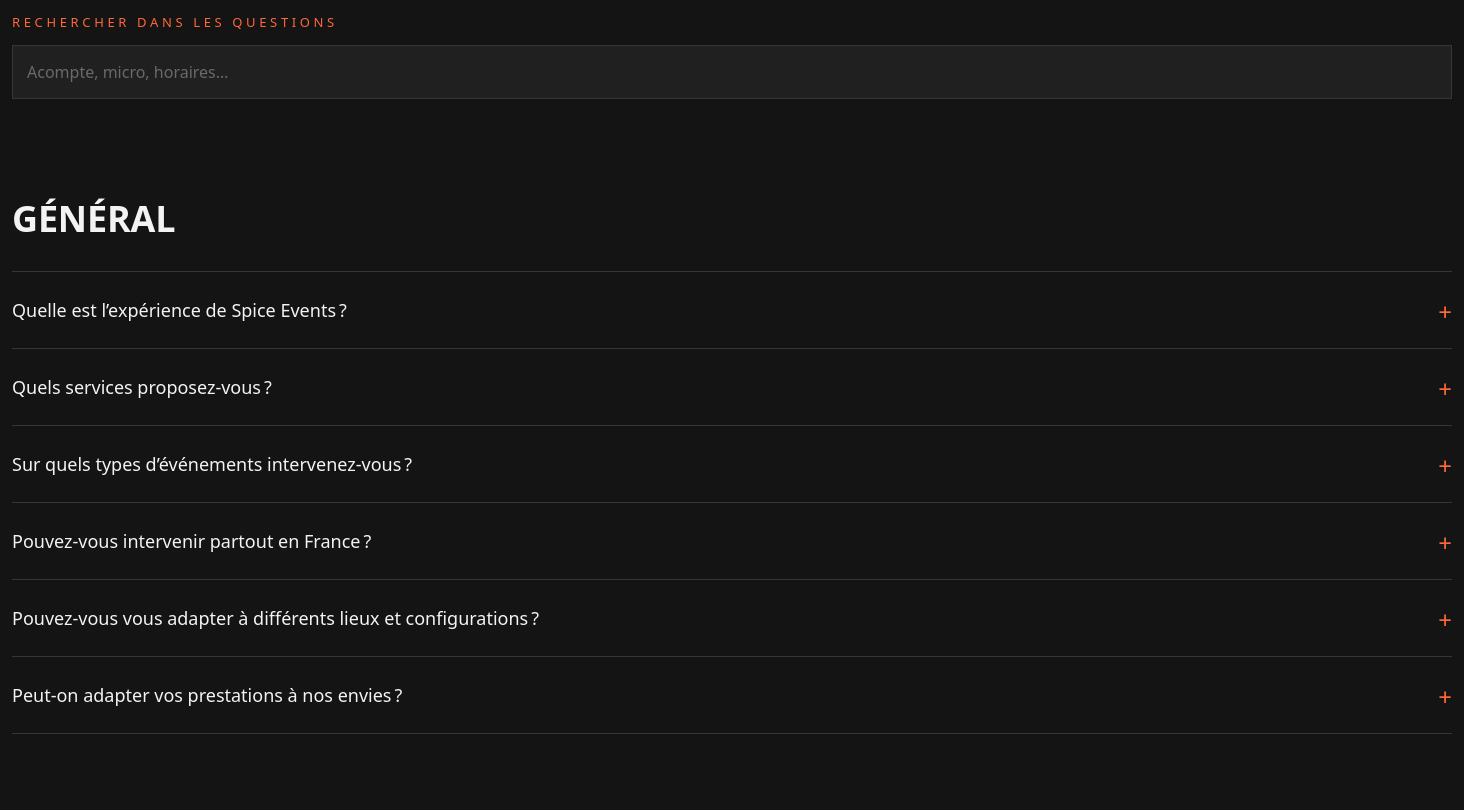
Test case: FaqFiltrable › filtre les questions, les déplie et annonce leur nombre
Type "Acompte" into the search field labelled "Rechercher dans les questions". click: {"x": 732, "y": 72}
box: [12, 45, 1452, 99]
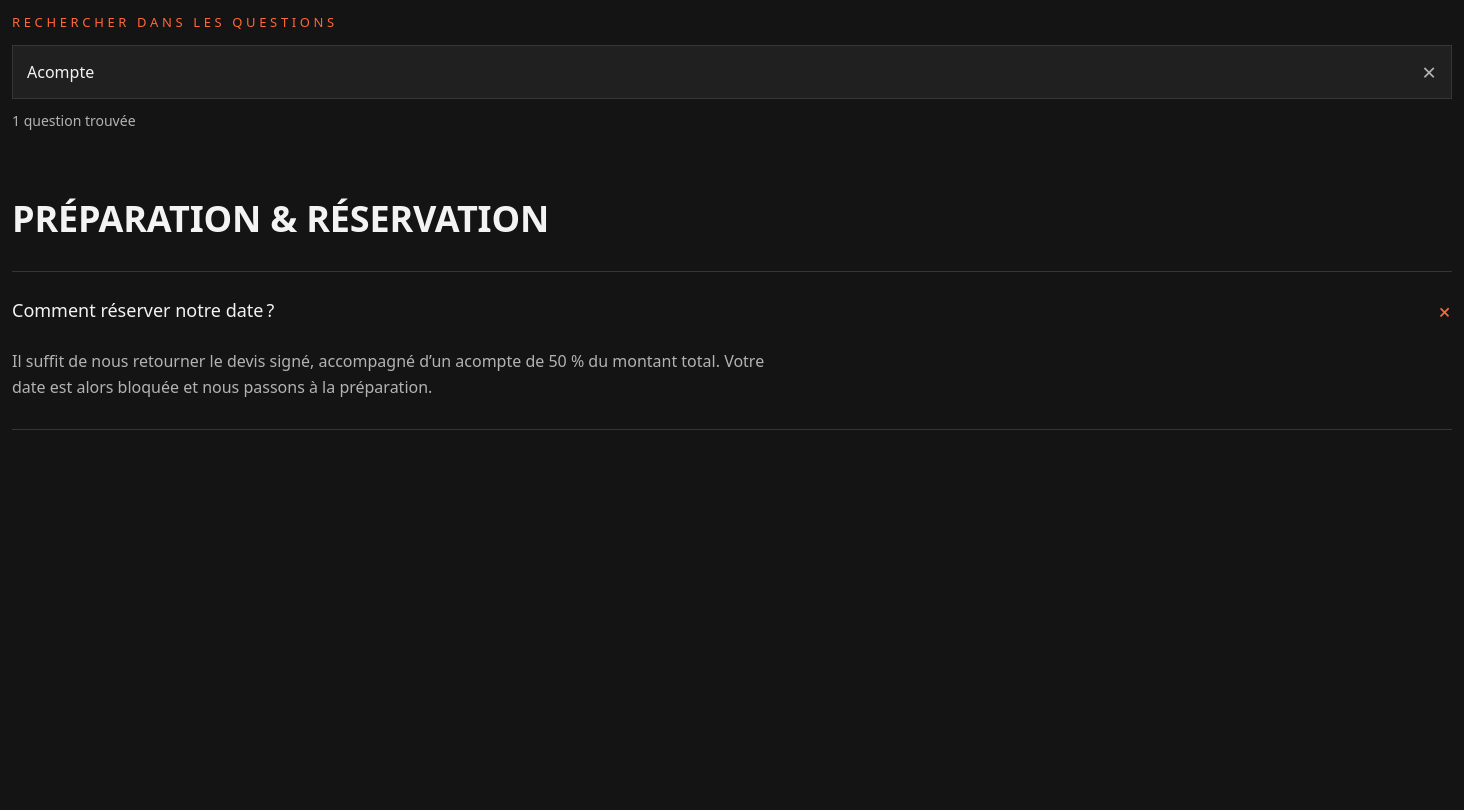
expect the text "1 question trouvée" is shown: met, box [12, 111, 136, 130]
